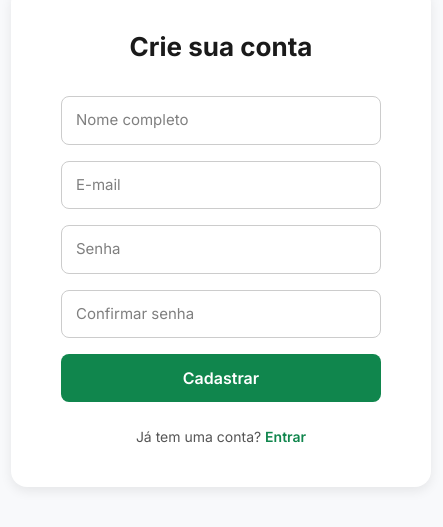
Test case: Página de Cadastro › deve validar senhas diferentes
The width and height of the screenshot is (443, 527).
CORREÇÃO: Precisamos preencher Nome e Email para passar da primeira validação!
Type "Teste" into the field with placeholder "Nome completo" at (221, 120), box 61,96 -> 381,144
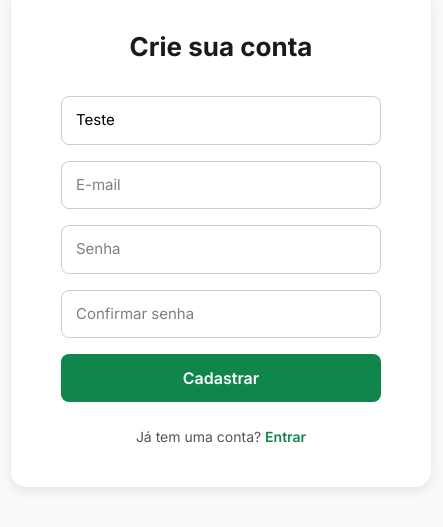
Type "teste@teste.com" into the field with placeholder "E-mail" at (221, 185), box 61,160 -> 381,209
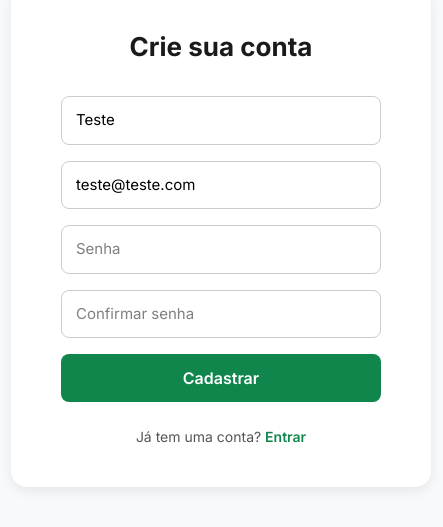
Preenche senhas diferentes
Type "12345678" into the password field with placeholder "Senha" at (221, 249), box 61,225 -> 381,274
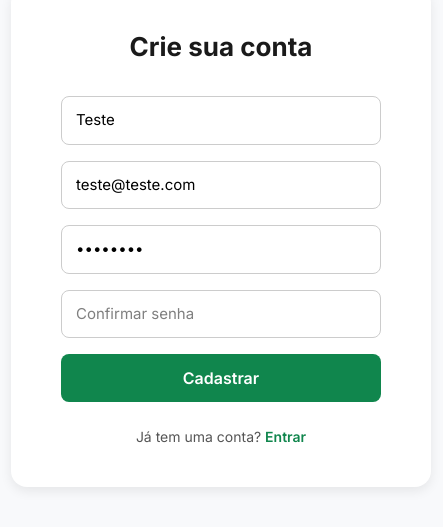
Type "87654321" into the password field with placeholder "Confirmar senha" at (221, 314), box 61,290 -> 381,338
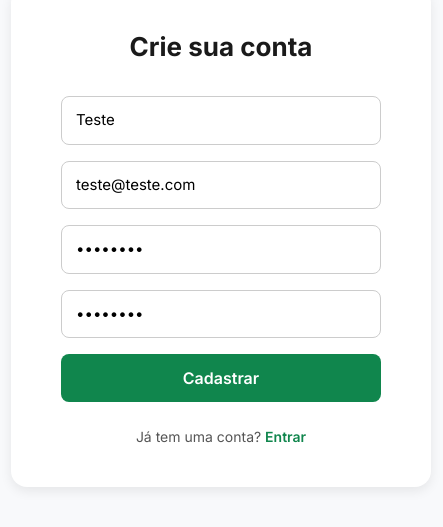
Dispara o envio
Click the button "Cadastrar" at (221, 378), box 61,354 -> 381,402
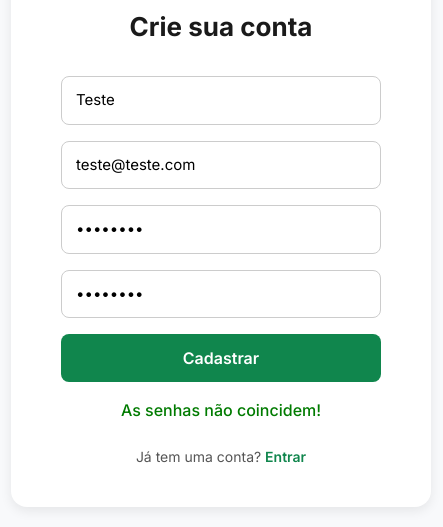
Check: the text "As senhas não coincidem!" is shown, box 121,400 -> 321,420
